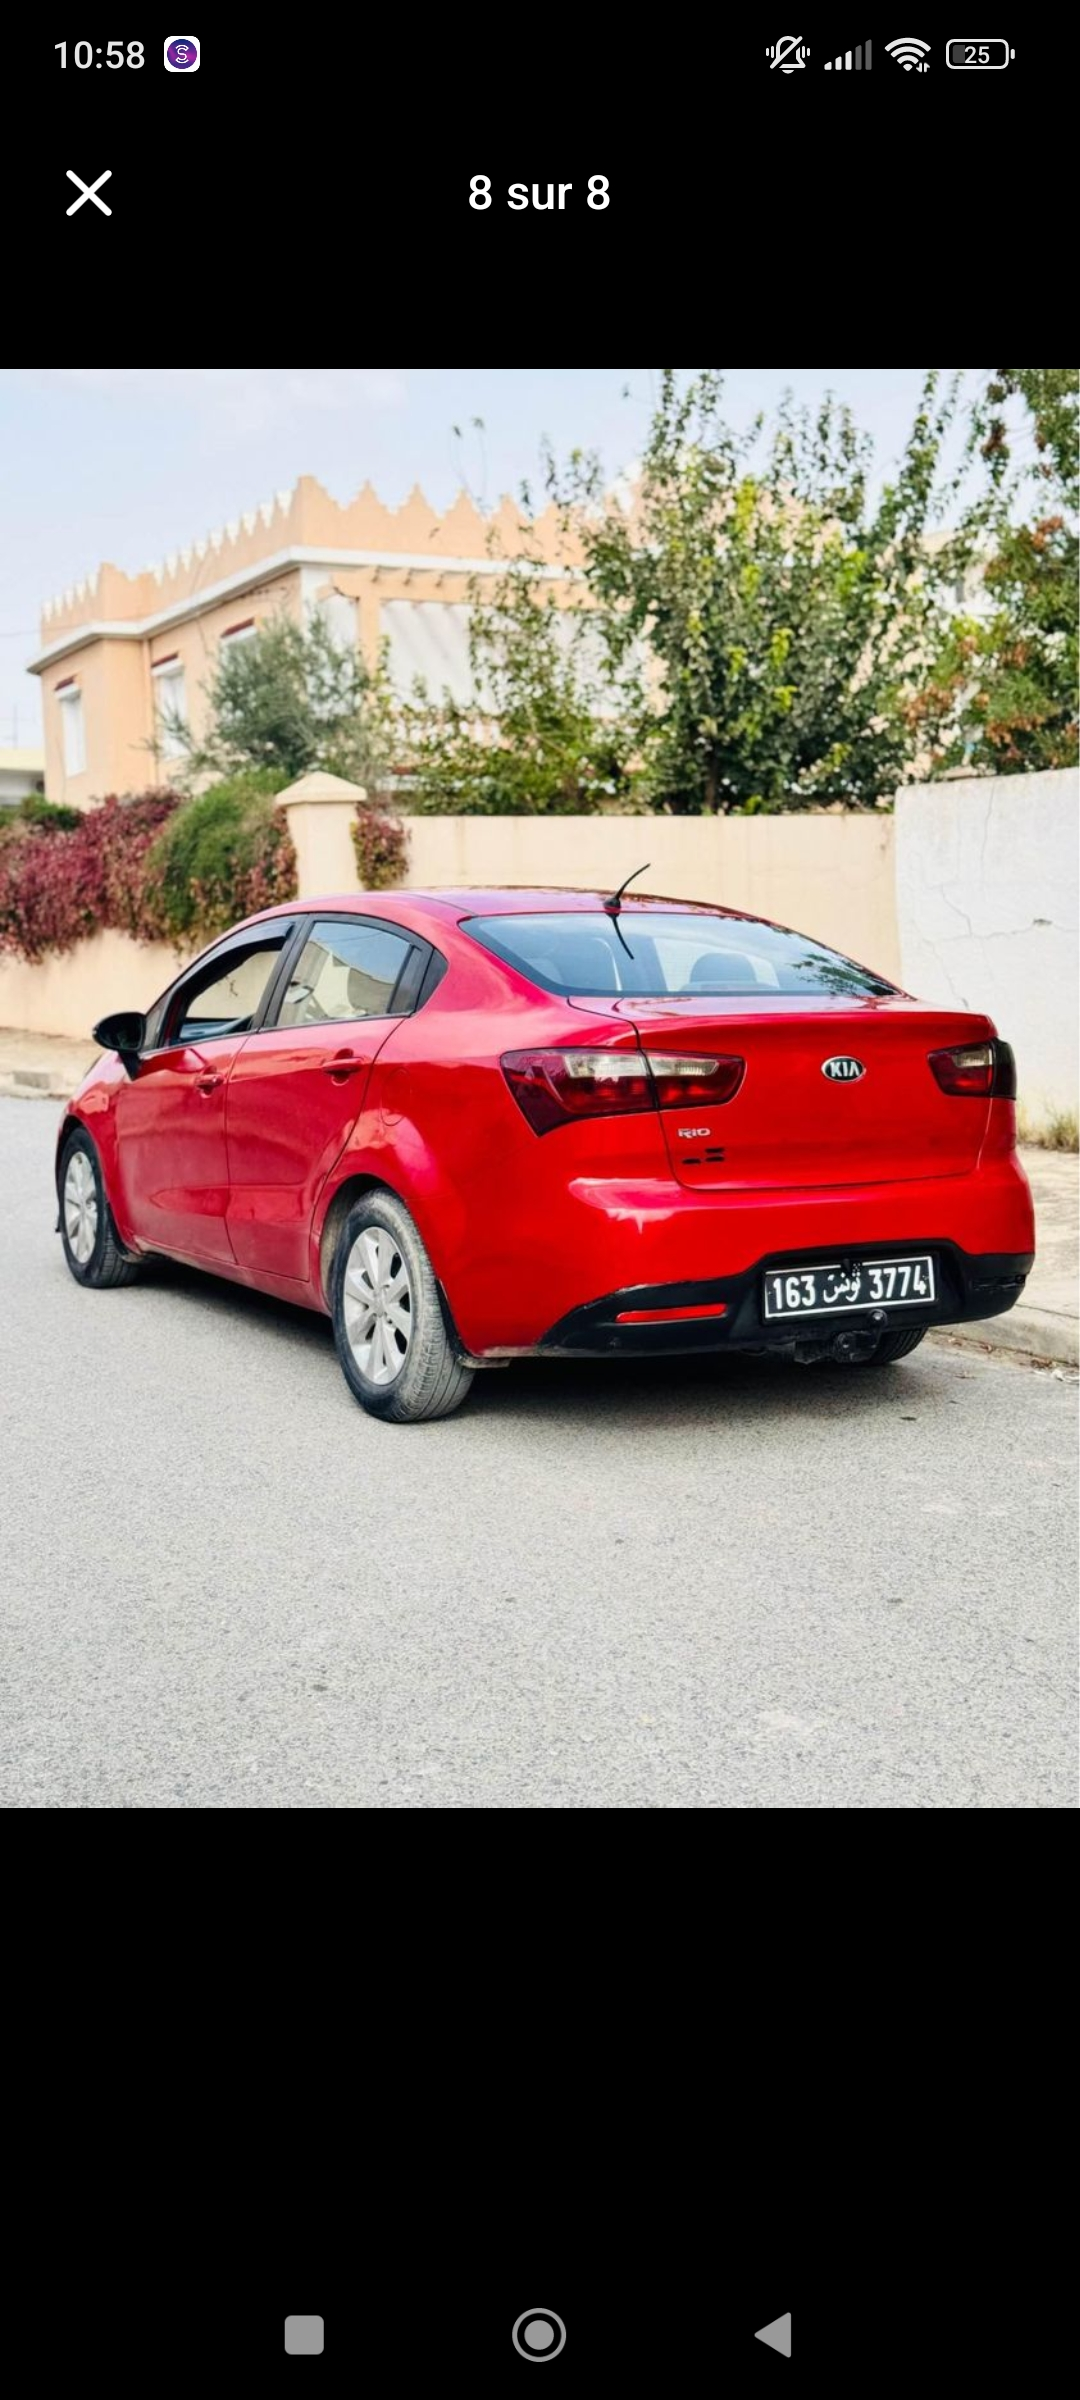kia: (40, 880, 1080, 1433)
